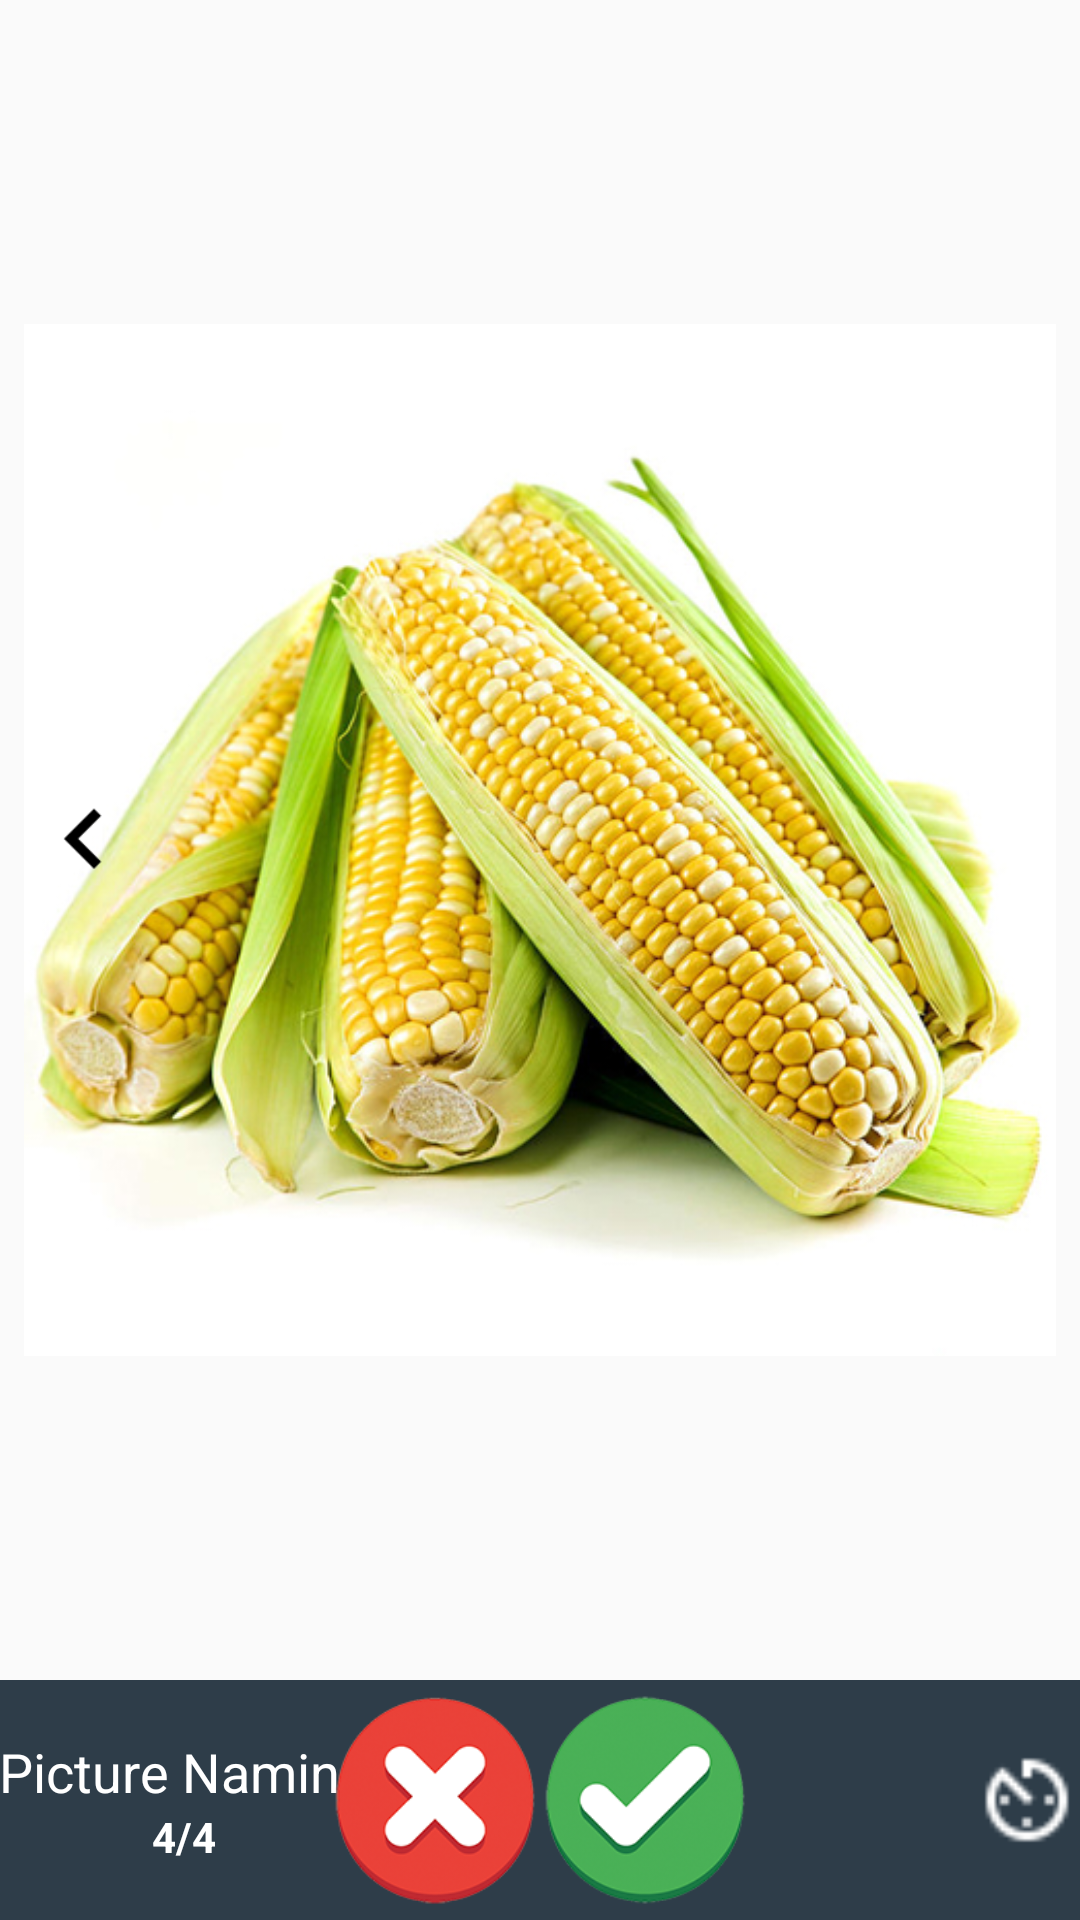

Icon bounding boxes for this 1080px×1920px phone screenshot, format (x1, y1, x2, y2):
av timer: (985, 1758, 1069, 1842)
correct: (546, 1696, 744, 1903)
wrong: (330, 1697, 535, 1904)
